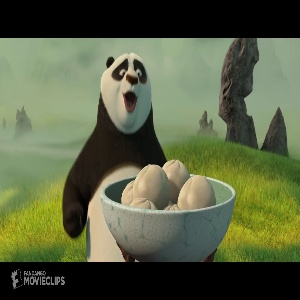po: (58, 47, 174, 263)
